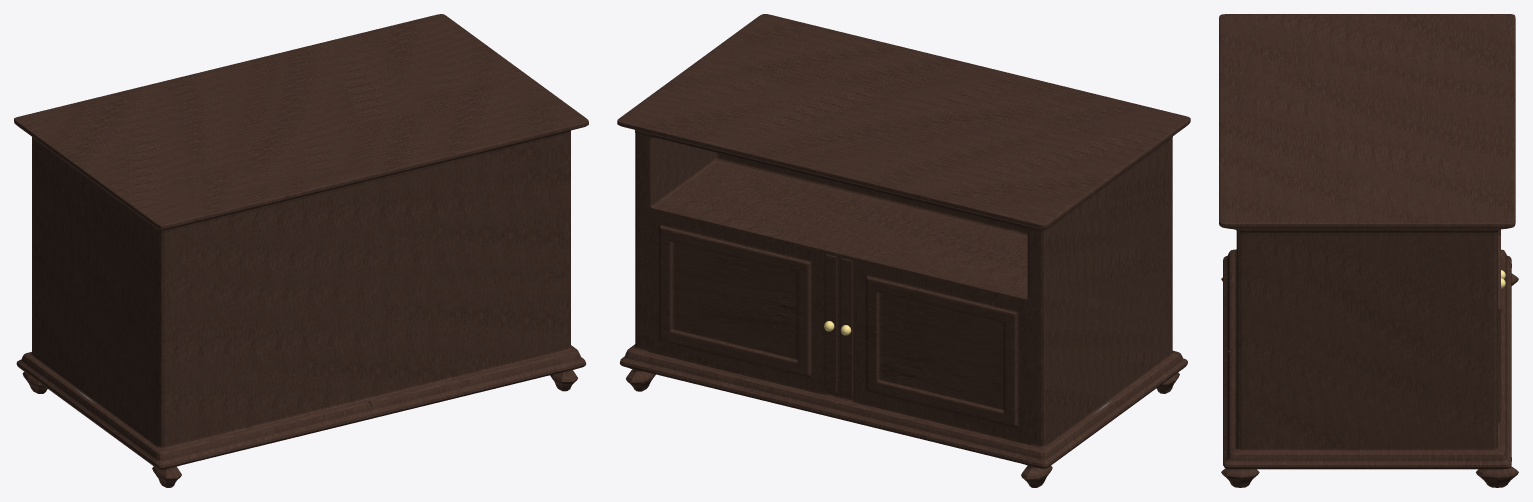
File: _finalStand.fbx
3 views of the same model, side by side, from view 1: azimuth 30°, elevation 25°; view 2: azimuth 150°, elevation 25°; view 3: azimuth 270°, elevation 25° (orthographic).
Parts seen in each view (by area): view 1: TV_Stand; view 2: TV_Stand; view 3: TV_Stand.
Part boxes in pixels (x1,y1,x2,y2): TV_Stand: (14,14,588,487); TV_Stand: (617,14,1190,487); TV_Stand: (1219,14,1518,487).
Size of the model in its own units: 409 by 246 by 247.
Materials: 1 (1 with a texture image).
